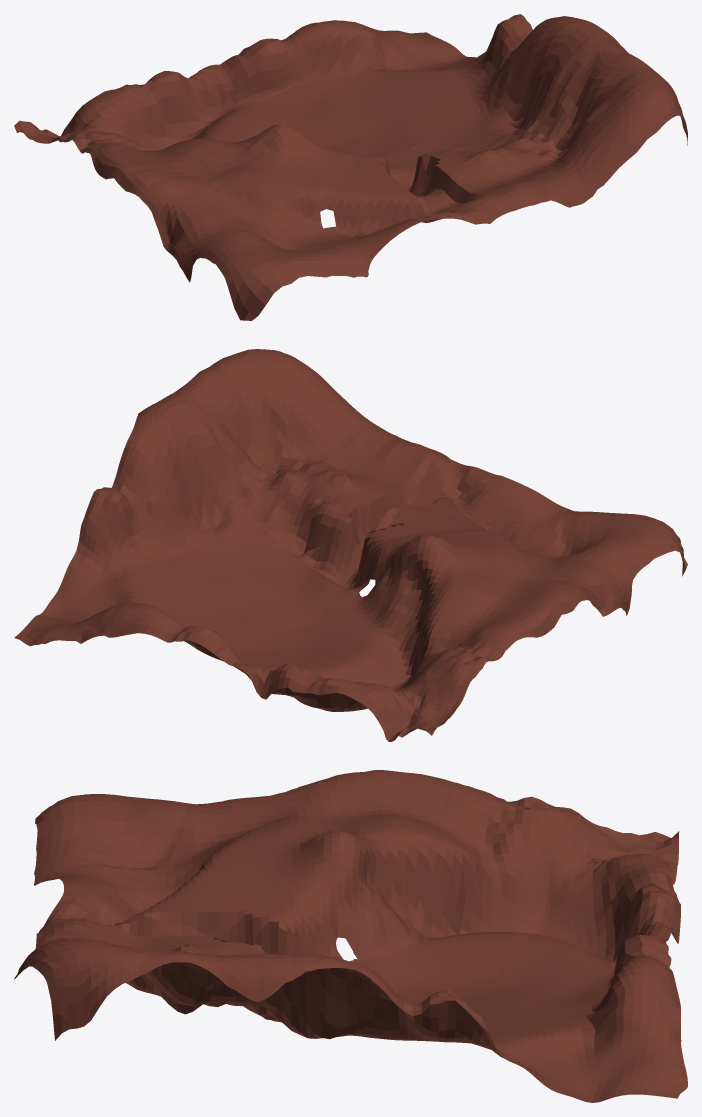
Rendered from Terrain.fbx.
3 views of the same model, one above another, from view 1: azimuth 30°, elevation 25°; view 2: azimuth 150°, elevation 25°; view 3: azimuth 270°, elevation 25° (orthographic). The views are drawn at different scales.
Parts seen in each view (by area): view 1: Terrain.003, Terrain, Terrain.001, Terrain.002; view 2: Terrain, Terrain.001, Terrain.002, Terrain.003; view 3: Terrain.002, Terrain.003, Terrain.001, Terrain.
Part boxes in pixels (<box>): Terrain.003: <box>114,124,467,320</box>; Terrain: <box>382,16,687,224</box>; Terrain.001: <box>220,14,558,163</box>; Terrain.002: <box>14,64,275,179</box>; Terrain: <box>130,349,464,593</box>; Terrain.001: <box>14,435,347,674</box>; Terrain.002: <box>230,568,561,741</box>; Terrain.003: <box>336,465,687,616</box>; Terrain.002: <box>366,770,680,982</box>; Terrain.003: <box>34,770,382,968</box>; Terrain.001: <box>353,935,687,1102</box>; Terrain: <box>14,914,360,1040</box>.
Bounding box in the file's own units: 10019 × 2960 × 9813.
